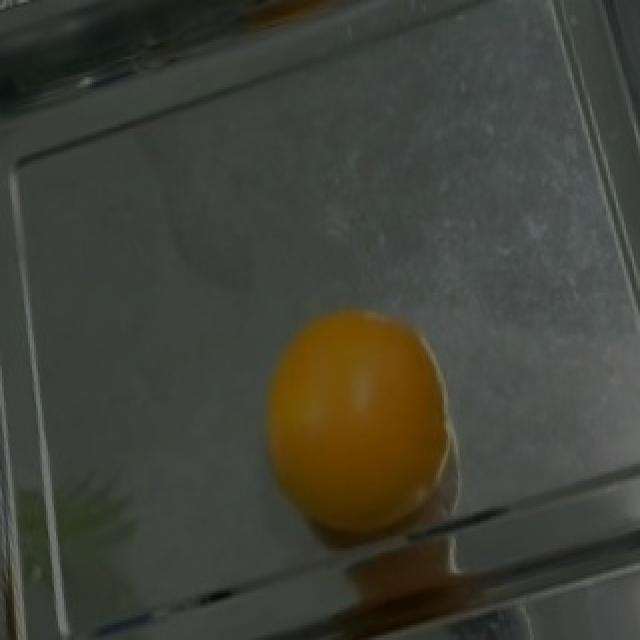Fruit: (252, 300, 472, 556)
